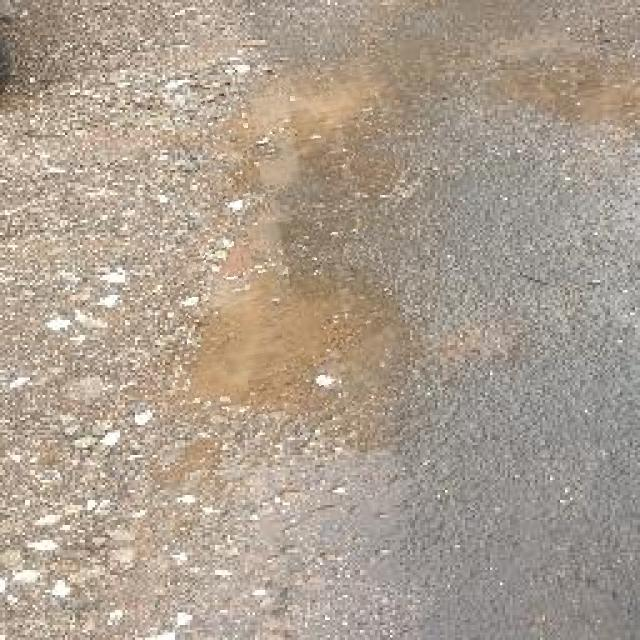puddle: (171, 215, 406, 428), (204, 71, 402, 198)
